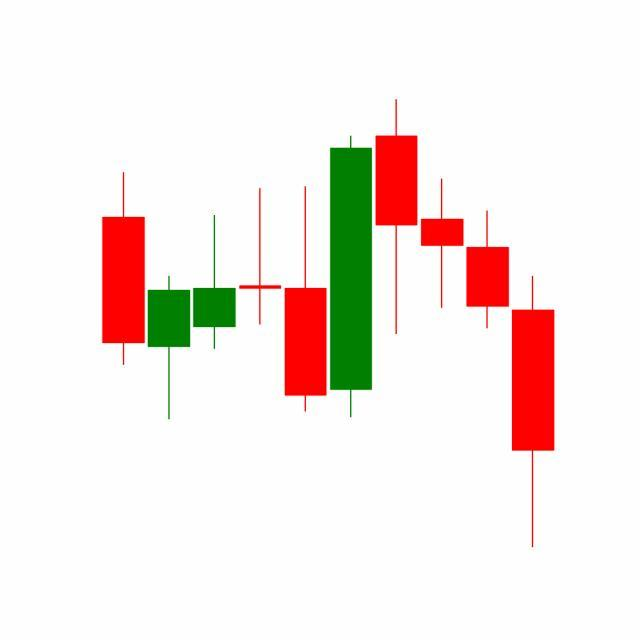Hikkake Pattern: (283, 100, 512, 424)
